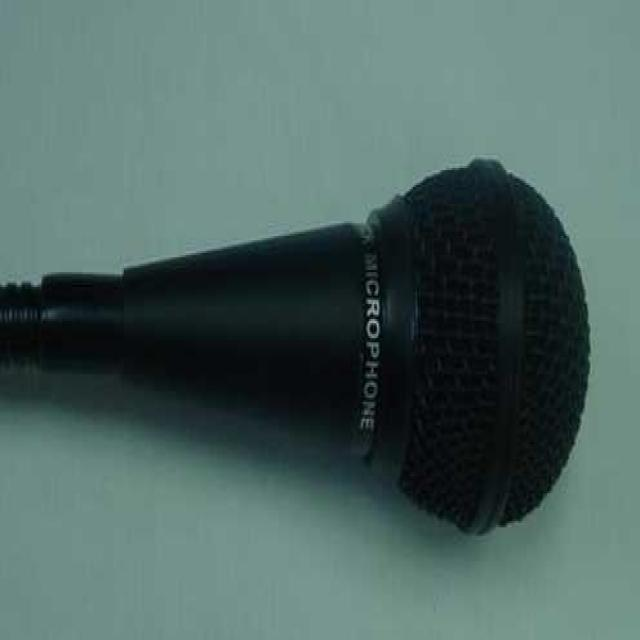microphone: (2, 144, 600, 545)
